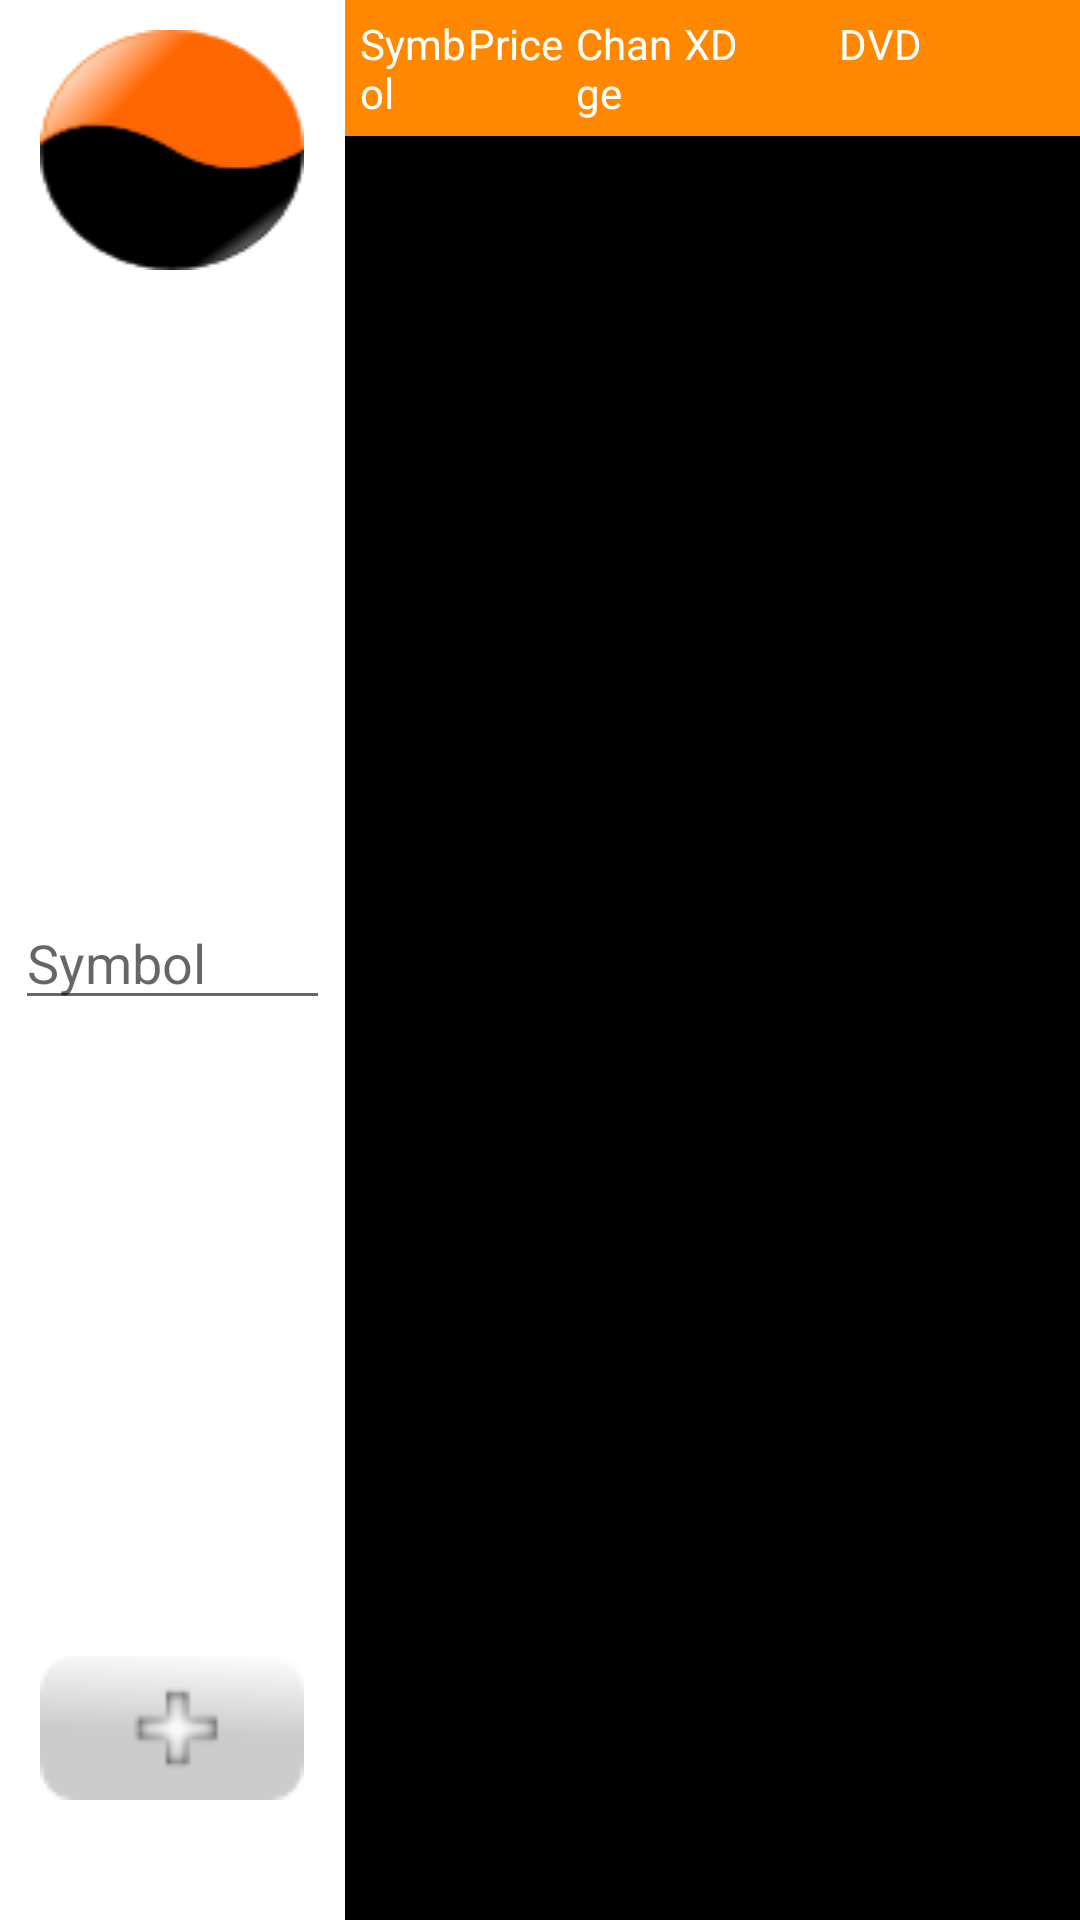

Icons on this 1080×1920 Android screen, each with its box as (x1, y1, x2, y2):
plus: (40, 1682, 304, 1800)
